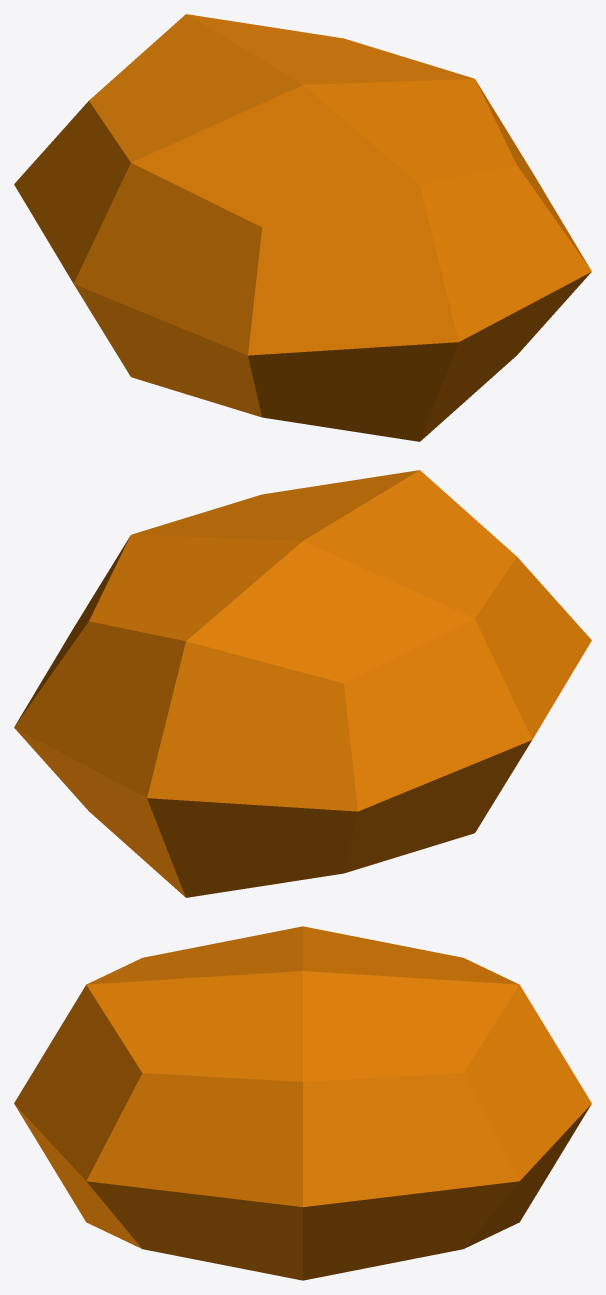
Rendered from sweet_inside.fbx.
The picture shows the model from 3 angles, top to bottom: view 1: azimuth 30°, elevation 25°; view 2: azimuth 150°, elevation 25°; view 3: azimuth 270°, elevation 25°; orthographic projection. The views are drawn at different scales.
Parts seen in each view (by area): view 1: cough drops; view 2: cough drops; view 3: cough drops.
Part boxes in pixels (x1=…): cough drops: x1=14, y1=14, x2=591, y2=441; cough drops: x1=14, y1=470, x2=591, y2=897; cough drops: x1=14, y1=926, x2=591, y2=1280.
Size of the model in its own units: 100 by 59.57 by 118.
